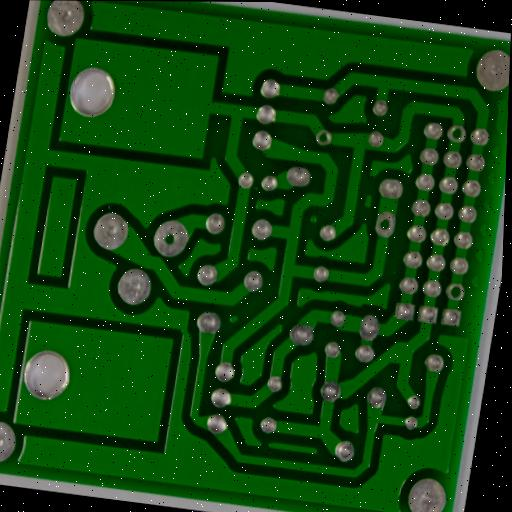missing_hole: (154, 221, 188, 259), (374, 211, 397, 237), (445, 281, 465, 303), (447, 123, 468, 143), (315, 129, 332, 148)
